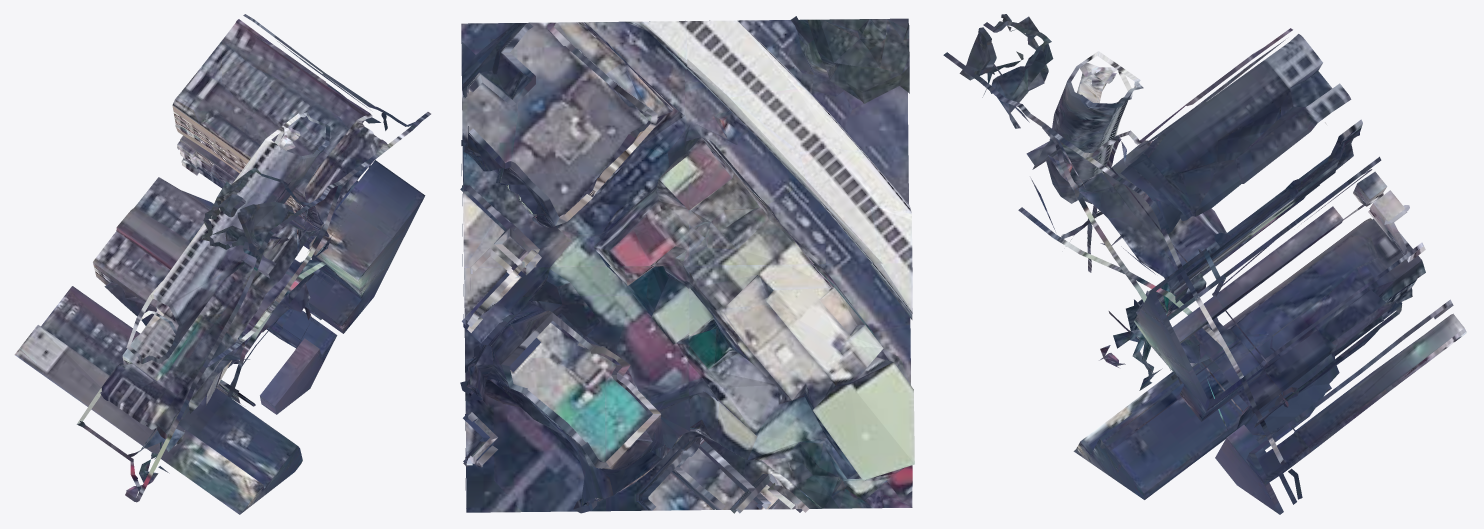
3 views of the same model, side by side, from view 1: azimuth 30°, elevation 25°; view 2: azimuth 150°, elevation 25°; view 3: azimuth 270°, elevation 25° (orthographic). The views are drawn at different scales.
Size of the model in its own units: 83.96 by 94.17 by 94.71.
Materials: 1 (1 with a texture image).
